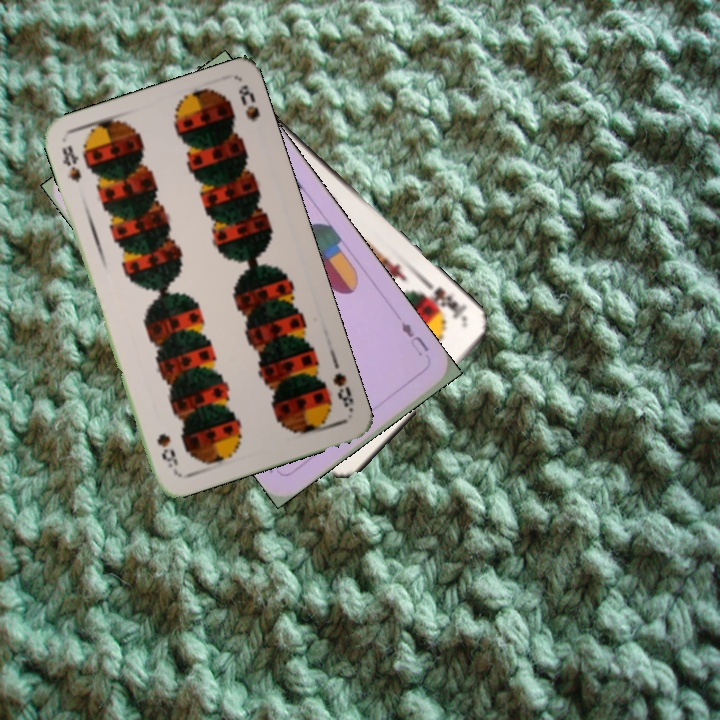EU: (397, 318, 432, 359)
S8: (328, 368, 356, 415), (58, 141, 84, 185)
SK: (416, 277, 470, 327)
